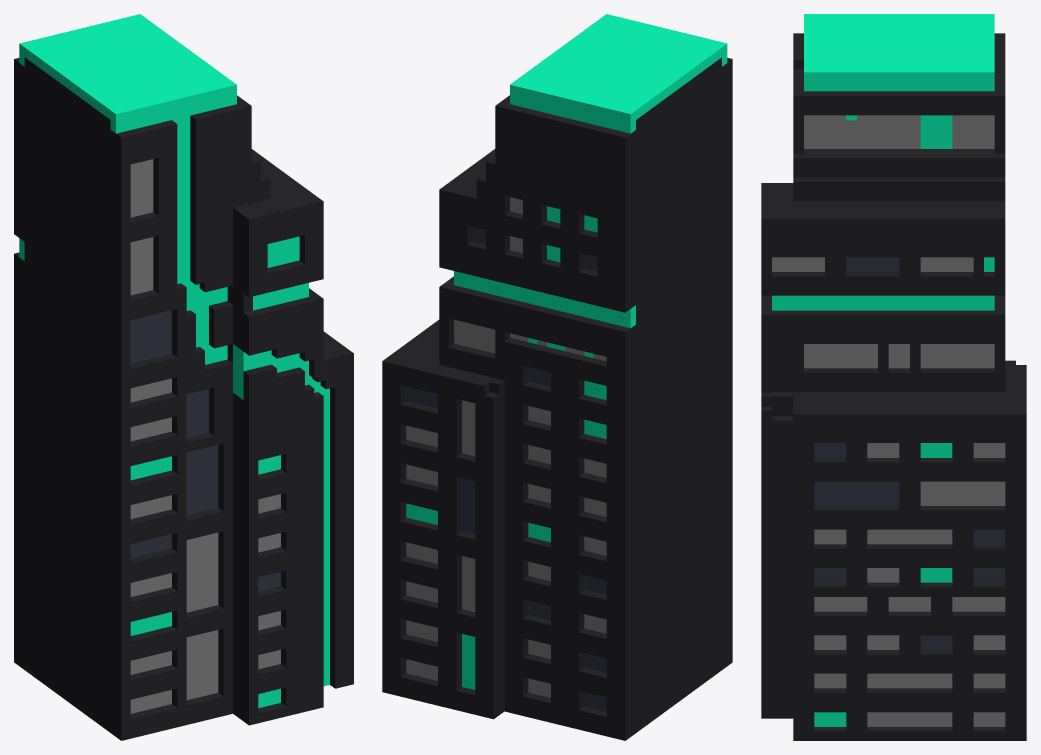
File: LandMark_004.obj
3 renders of one model, left to right at view 1: azimuth 30°, elevation 25°; view 2: azimuth 150°, elevation 25°; view 3: azimuth 270°, elevation 25°, orthographic.
Bounding box in the file's own units: 2.5 × 6.4 × 2.5.
1 material, 1 textured.
